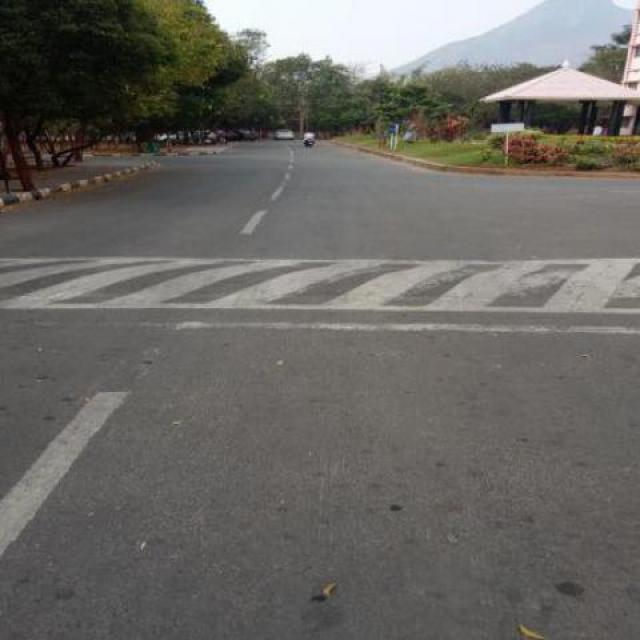Speed Bump: (1, 255, 639, 338)
